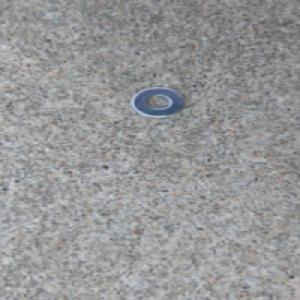Washer: (127, 85, 187, 119)
